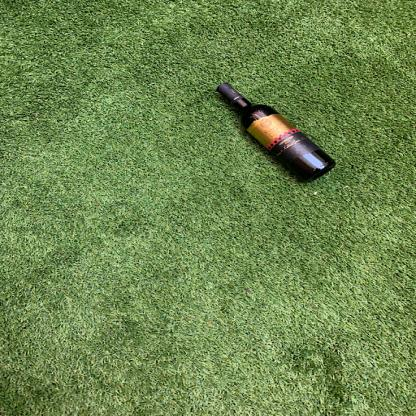trash: (210, 80, 338, 186)
